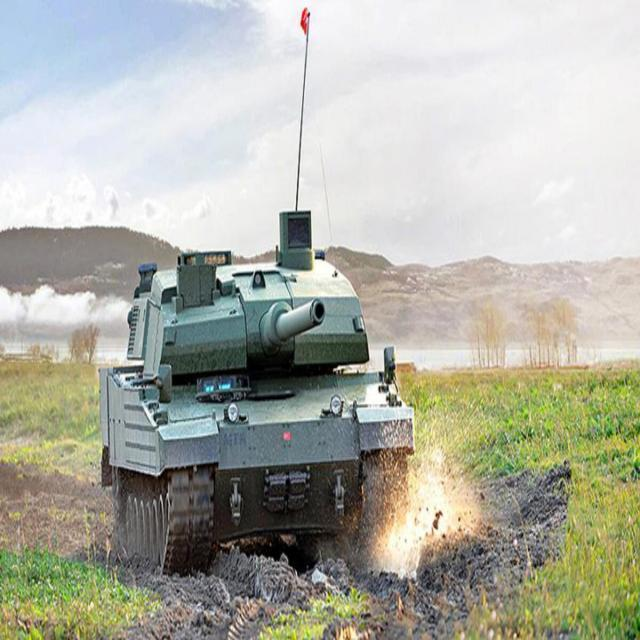Tanks: (98, 213, 421, 578)
